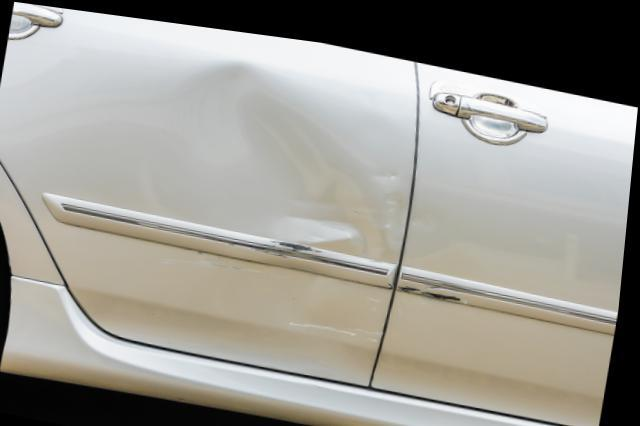dent: (146, 57, 387, 249)
scratch: (154, 232, 329, 271), (287, 311, 387, 331), (406, 266, 475, 292)
